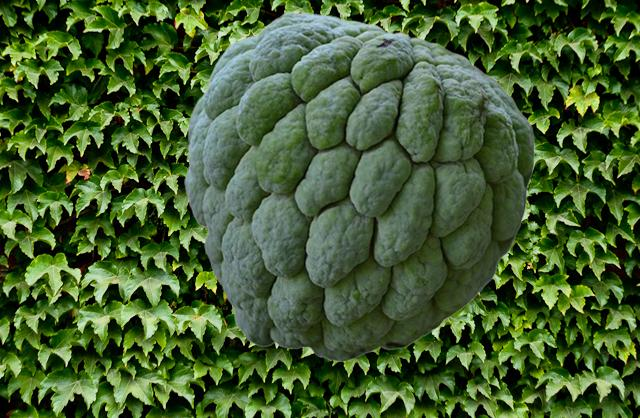atis: (184, 11, 534, 360)
